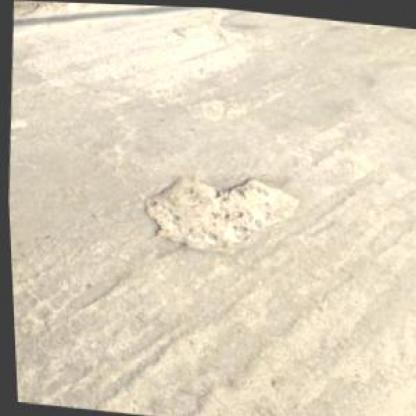pothole: (136, 164, 299, 259)
